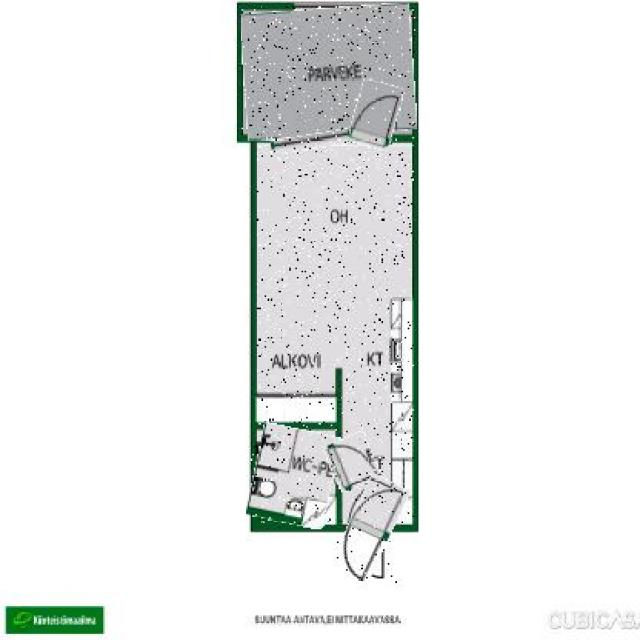door: (337, 476, 400, 586), (349, 80, 400, 151), (326, 434, 379, 489)
window: (271, 131, 351, 151)
zone: (257, 145, 414, 524), (242, 6, 416, 139), (251, 426, 337, 526)
